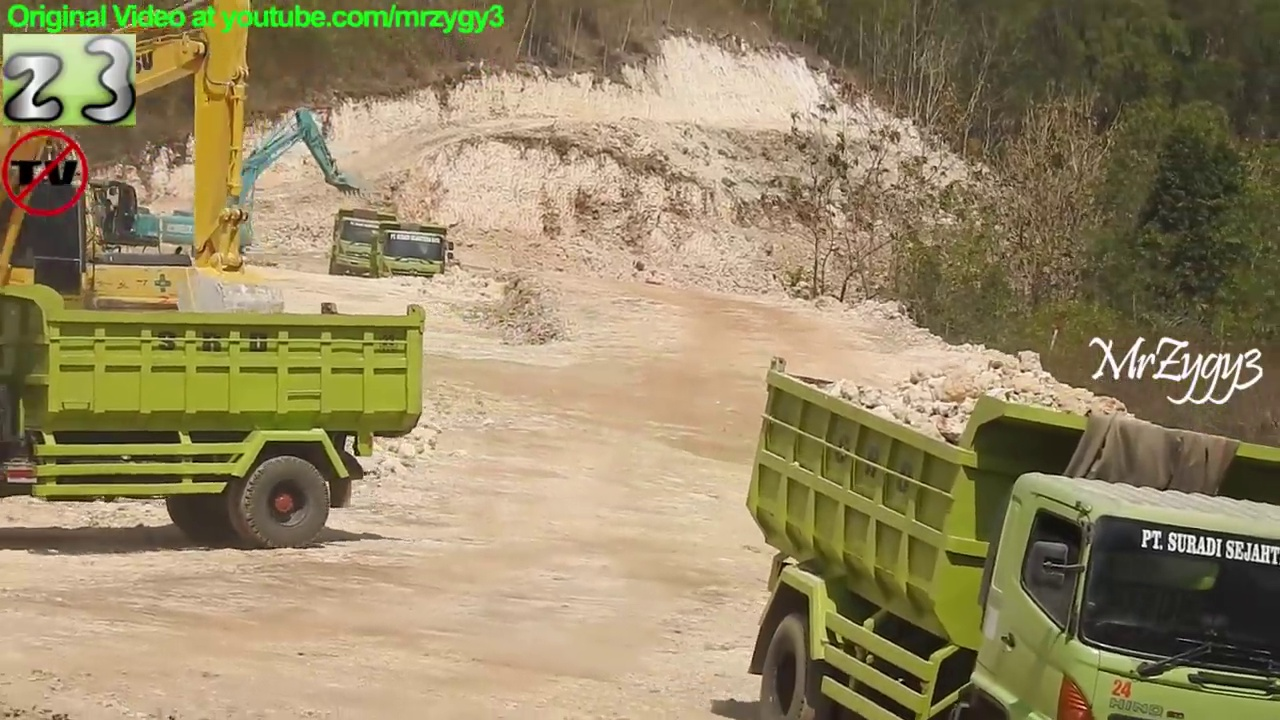excavator: (1, 1, 291, 419), (1, 1, 210, 351), (1, 1, 175, 278), (158, 105, 364, 281)
truck: (738, 350, 1280, 720), (1, 277, 431, 553), (369, 217, 457, 298), (327, 205, 403, 285)
